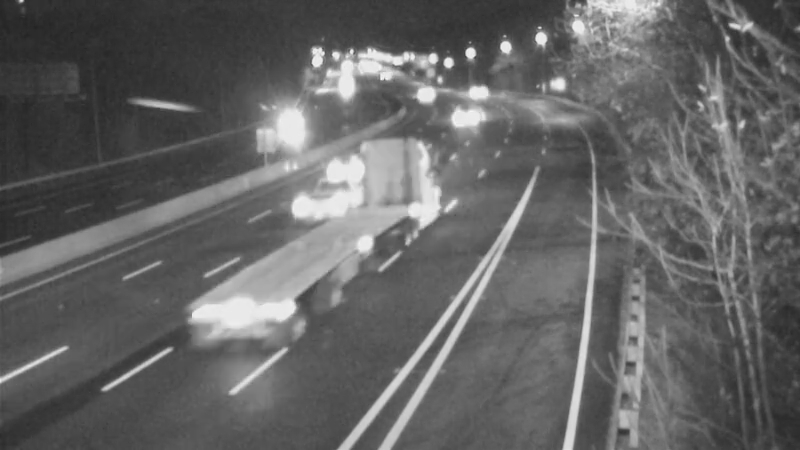vehicle: (298, 122, 378, 202), (279, 172, 359, 252), (310, 197, 390, 277), (456, 67, 506, 117), (403, 72, 453, 122), (441, 95, 491, 145), (262, 95, 312, 145)
